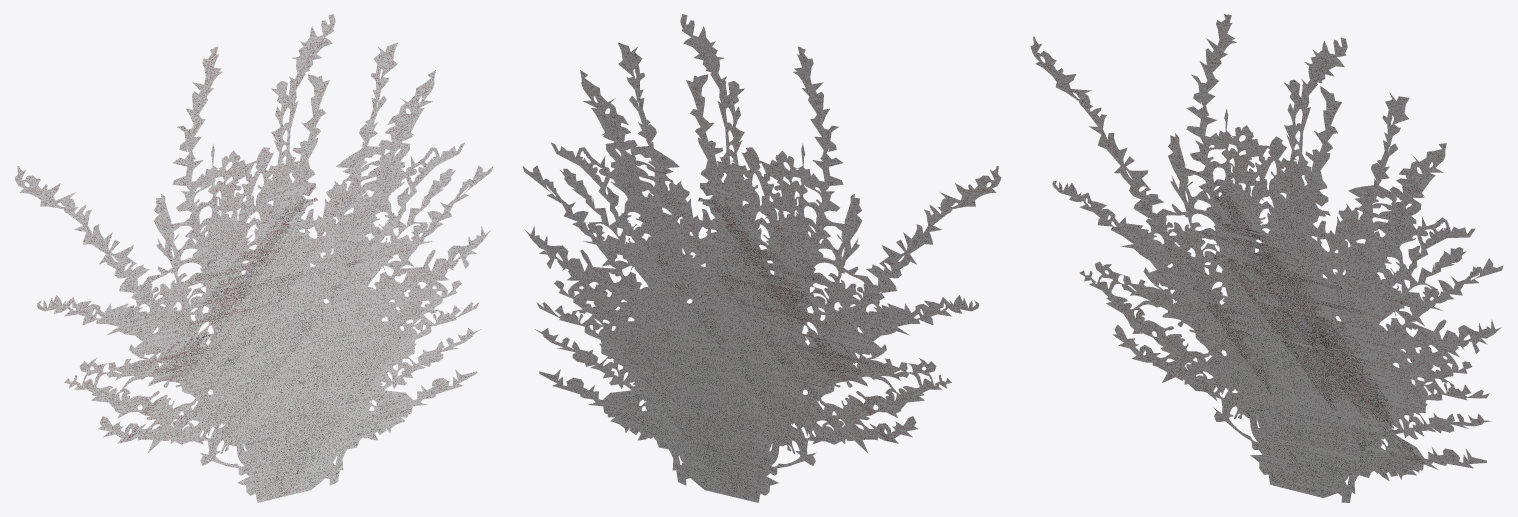
File: Berberis_thunbergii_Atropurpurea_10L.dae
The picture shows the model from 3 angles, left to right: view 1: azimuth 30°, elevation 25°; view 2: azimuth 150°, elevation 25°; view 3: azimuth 330°, elevation 25°; orthographic projection.
Parts seen in each view (by area): view 1: SketchUp; view 2: SketchUp; view 3: SketchUp.
Part boxes in pixels (x1,y1,x2,y2): SketchUp: [14, 14, 493, 502]; SketchUp: [522, 14, 1001, 502]; SketchUp: [1030, 14, 1503, 502].
Bounding box in the file's own units: 28.14 × 2.55e-14 × 26.42.
2 materials, 1 textured.
